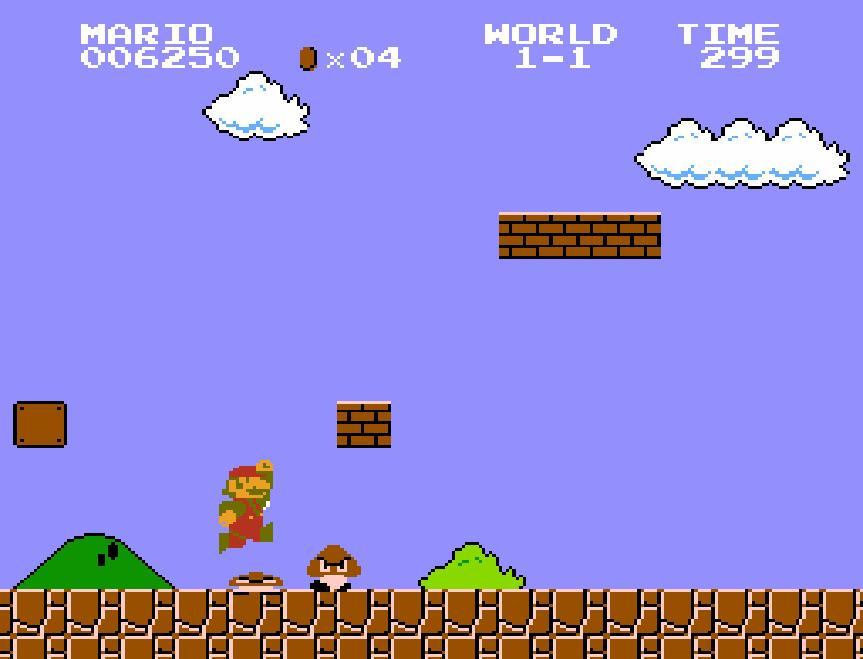big_mario: (217, 458, 274, 556)
